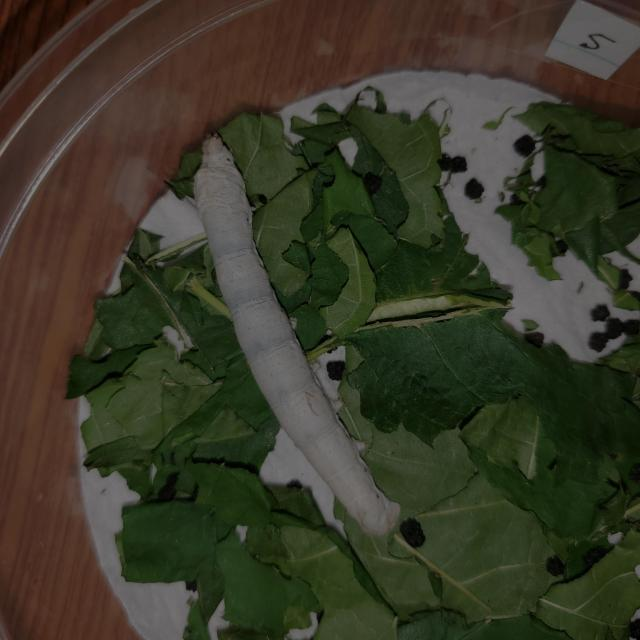Healthy: (182, 128, 407, 550)
